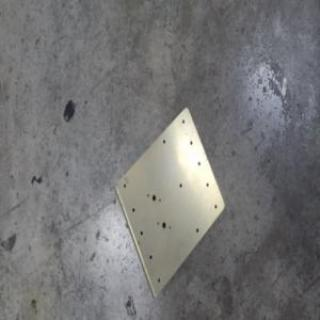MetalSheettrack_idkeyframe: (112, 105, 225, 300)
